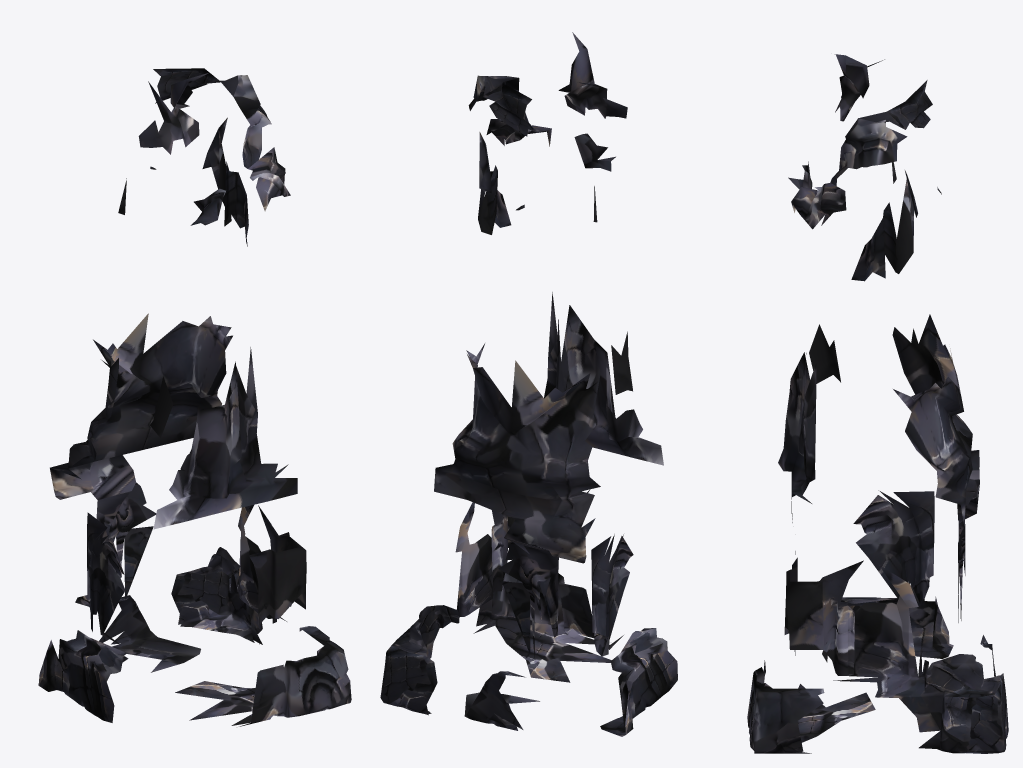
File: RIP0 (2).obj
3 views of the same model, side by side, from view 1: azimuth 30°, elevation 25°; view 2: azimuth 150°, elevation 25°; view 3: azimuth 270°, elevation 25° (orthographic). The views are drawn at different scales.
Visible parts, largest first — view 1: RIP0; view 2: RIP0; view 3: RIP0.
Boxes of the visible parts, x1,y1,x2,y2 form: RIP0: [38, 68, 351, 726]; RIP0: [380, 32, 677, 736]; RIP0: [747, 54, 1008, 753].
Bounding box in the file's own units: 0.3467 × 1 × 0.3454.
